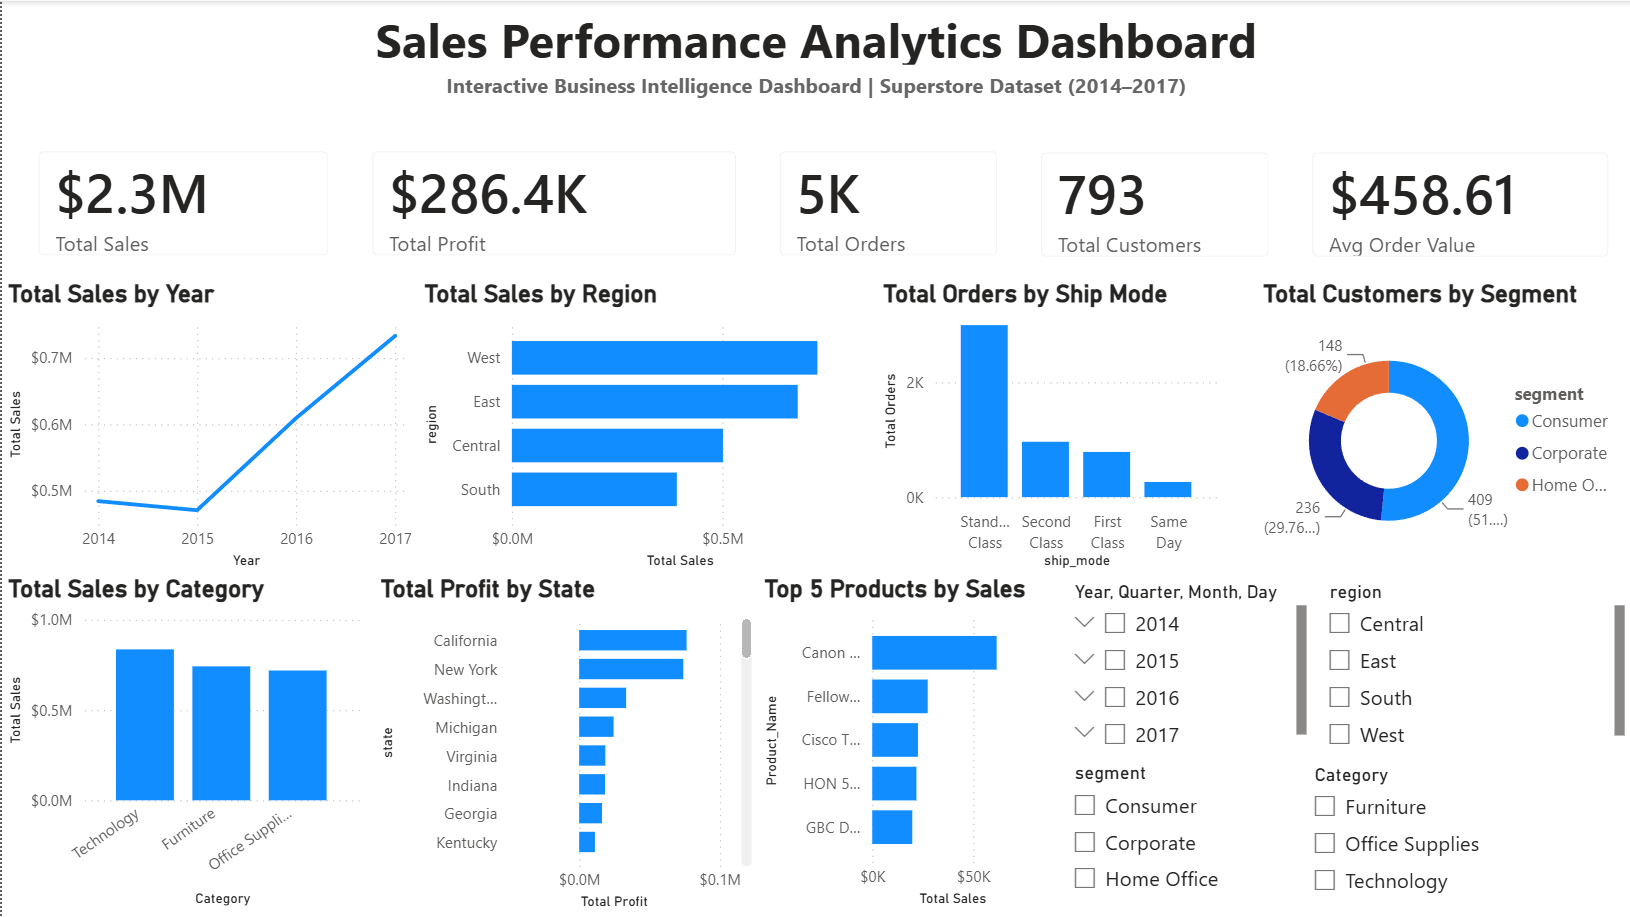

The dashboard page shown, as its layout file describes it:
{"tool":"powerbi","page":{"name":"Page 1","canvas":[1280,720],"ordinal":0},"visuals":[{"type":"cardVisual","fields":{"Data":["sales.Total Sales"]},"box":[11.8,101.2,262.3,116.9],"z":0},{"type":"cardVisual","fields":{"Data":["orders.Total Orders"]},"box":[594.4,101.2,205.4,116.9],"z":1000},{"type":"cardVisual","fields":{"Data":["customers.Total Customers"]},"box":[799.8,102.2,213.2,116.9],"z":2000},{"type":"cardVisual","fields":{"Data":["sales.Total Profit"]},"box":[274.1,101.2,320.3,116.9],"z":3000},{"type":"lineChart","fields":{"Category":["orders.order_date.Variation.Date Hierarchy.Year","orders.order_date.Variation.Date Hierarchy.Quarter","orders.order_date.Variation.Date Hierarchy.Month","orders.order_date.Variation.Date Hierarchy.Day"],"Y":["sales.Total Sales"]},"box":[0,219.1,327.2,231.9],"z":4000},{"type":"clusteredBarChart","title":"Total Sales by Region","fields":{"Category":["regions.region"],"Y":["sales.Total Sales"]},"box":[327.2,219.1,360.6,231.9],"z":5000},{"type":"clusteredColumnChart","fields":{"Category":["products_fixed.Category"],"Y":["sales.Total Sales"]},"box":[0,451,286.9,265.3],"z":6000},{"type":"donutChart","title":"Total Customers by Segment","fields":{"Y":["customers.Total Customers"],"Category":["customers.segment"]},"box":[986.5,219.1,293.8,231.9],"z":7000},{"type":"columnChart","title":"Total Orders by Ship Mode","fields":{"Category":["orders.ship_mode"],"Y":["orders.Total Orders"]},"box":[687.8,219.1,273.1,231.9],"z":8000},{"type":"clusteredBarChart","title":"Top 5 Products by Sales","fields":{"Category":["products_fixed.Product_Name"],"Y":["sales.Total Sales"]},"box":[594.4,451,235.8,265.3],"z":9000},{"type":"clusteredBarChart","title":"Total Profit by State","fields":{"Category":["regions.state"],"Y":["sales.Total Profit"]},"box":[292.8,451,301.6,268.2],"z":10000},{"type":"slicer","fields":{"Values":["regions.region"]},"box":[1030.7,451,249.6,143.5],"z":11000},{"type":"slicer","fields":{"Values":["products_fixed.Category"]},"box":[1018.9,594.4,261.4,125.8],"z":12000},{"type":"slicer","fields":{"Values":["customers.segment"]},"box":[830.2,593.5,188.6,125.8],"z":13000},{"type":"slicer","fields":{"Values":["orders.order_date.Variation.Date Hierarchy.Year","orders.order_date.Variation.Date Hierarchy.Quarter","orders.order_date.Variation.Date Hierarchy.Month","orders.order_date.Variation.Date Hierarchy.Day"]},"box":[830.2,451,200.4,142.5],"z":14000},{"type":"textbox","box":[0,0,1280.2,75.7],"z":15000},{"type":"textbox","box":[0,50.1,1280.2,51.1],"z":16000},{"type":"cardVisual","fields":{"Data":["sales.Average Order Value"]},"box":[1013,102.2,267.3,116.9],"z":17000}]}

Visuals, with their boxes in screenshot pixels (x1, y1, x2, y2), scaled from the page's 1280x720 canvas onto the 1630x917 screenshot:
cardVisual - sales.Total Sales: l=15, t=129, r=349, b=278
cardVisual - orders.Total Orders: l=757, t=129, r=1018, b=278
cardVisual - customers.Total Customers: l=1018, t=130, r=1290, b=279
cardVisual - sales.Total Profit: l=349, t=129, r=757, b=278
lineChart - orders.order_date.Variation.Date Hierarchy.Year x orders.order_date.Variation.Date Hierarchy.Quarter: l=0, t=279, r=417, b=574
"Total Sales by Region" clusteredBarChart: l=417, t=279, r=876, b=574
clusteredColumnChart - products_fixed.Category x sales.Total Sales: l=0, t=574, r=365, b=912
"Total Customers by Segment" donutChart: l=1256, t=279, r=1629, b=574
"Total Orders by Ship Mode" columnChart: l=876, t=279, r=1224, b=574
"Top 5 Products by Sales" clusteredBarChart: l=757, t=574, r=1057, b=912
"Total Profit by State" clusteredBarChart: l=373, t=574, r=757, b=916
slicer - regions.region: l=1313, t=574, r=1629, b=757
slicer - products_fixed.Category: l=1298, t=757, r=1629, b=916
slicer - customers.segment: l=1057, t=756, r=1297, b=916
slicer - orders.order_date.Variation.Date Hierarchy.Year x orders.order_date.Variation.Date Hierarchy.Quarter: l=1057, t=574, r=1312, b=756
textbox: l=0, t=0, r=1629, b=96
textbox: l=0, t=64, r=1629, b=129
cardVisual - sales.Average Order Value: l=1290, t=130, r=1629, b=279
